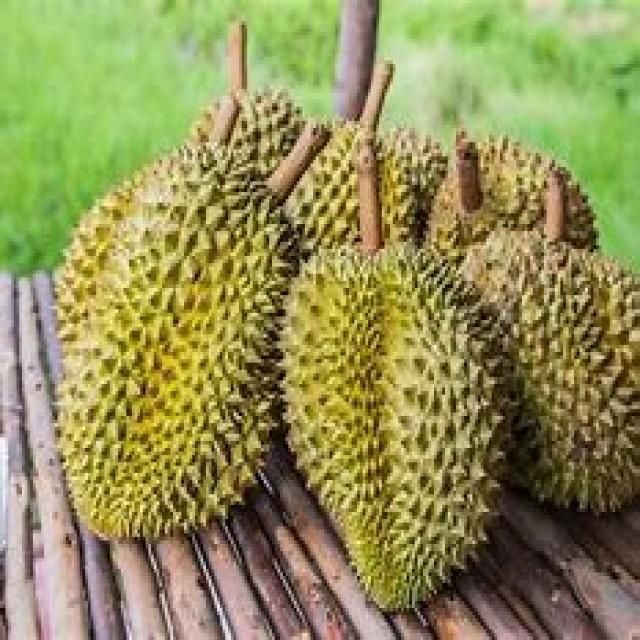mature: (58, 146, 299, 536), (281, 244, 501, 610), (462, 230, 640, 512)
